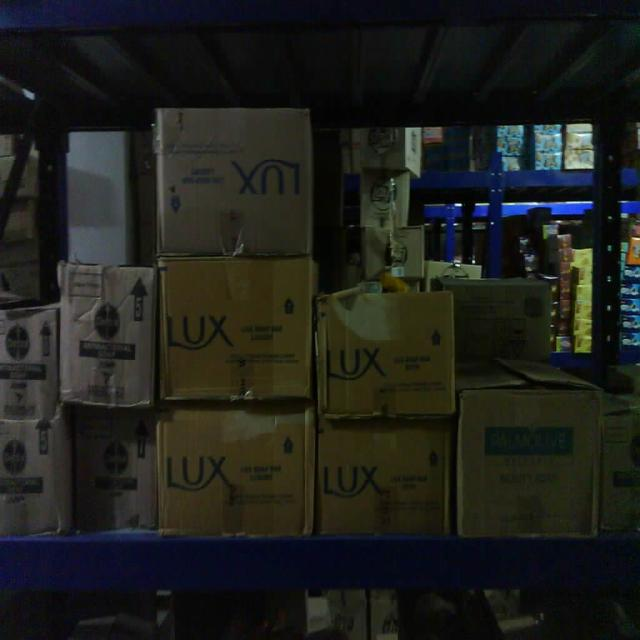box: (157, 103, 312, 258), (152, 402, 315, 536), (160, 263, 314, 402), (459, 385, 598, 537), (315, 294, 455, 414), (317, 415, 452, 531), (58, 260, 156, 409), (70, 408, 156, 538), (0, 416, 66, 534), (0, 302, 60, 412)
